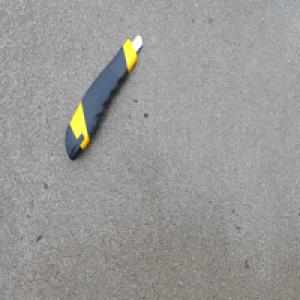Cutter: (65, 32, 144, 161)
